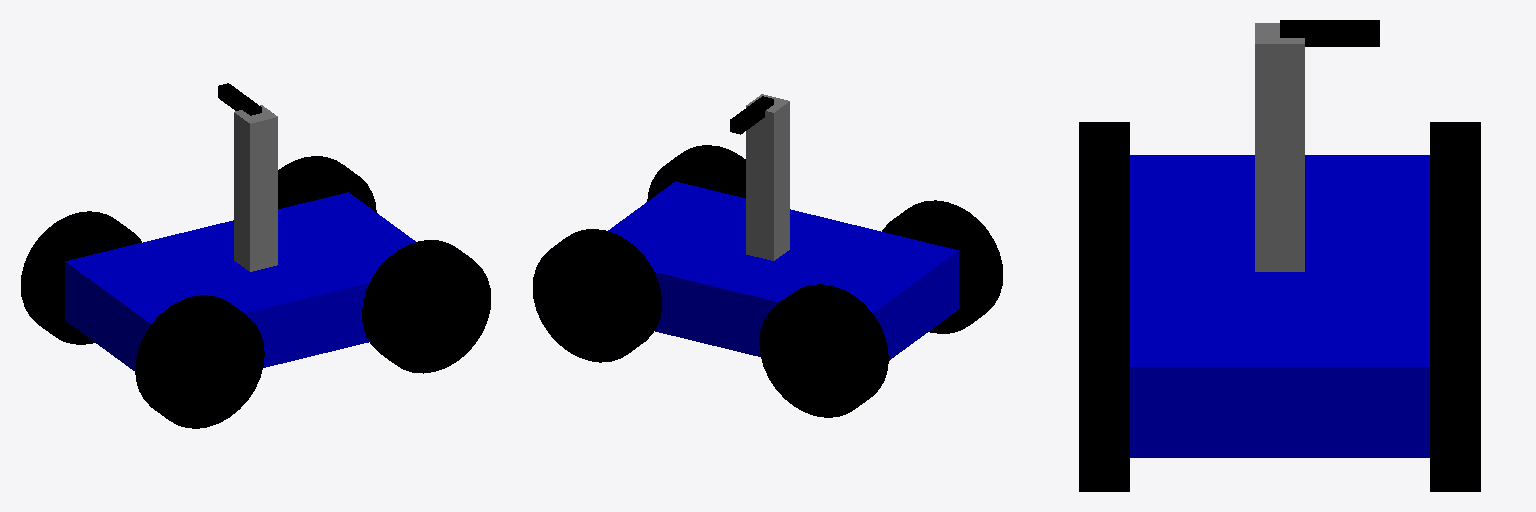
robot.urdf — four_wheel_arm_robot:
<?xml version="1.0"?>
<robot name="four_wheel_arm_robot">

  <material name="blue"><color rgba="0 0 0.8 1"/></material>
  <material name="black"><color rgba="0 0 0 1"/></material>
  <material name="grey"><color rgba="0.5 0.5 0.5 1"/></material>

  <link name="base_link">
    <visual>
      <geometry><box size="0.5 0.3 0.1"/></geometry>
      <material name="blue"/>
    </visual>
    <collision>
      <geometry><box size="0.5 0.3 0.1"/></geometry>
    </collision>
    <inertial>
      <mass value="5.0"/>
      <inertia ixx="0.04" ixy="0" ixz="0" iyy="0.1" iyz="0" izz="0.13"/>
    </inertial>
  </link>

  <link name="fl_wheel">
    <visual><geometry><cylinder length="0.05" radius="0.1"/></geometry><material name="black"/></visual>
    <collision><geometry><cylinder length="0.05" radius="0.1"/></geometry></collision>
    <inertial><mass value="0.5"/><inertia ixx="0.001" ixy="0" ixz="0" iyy="0.001" iyz="0" izz="0.001"/></inertial>
  </link>
  <joint name="fl_joint" type="continuous">
    <parent link="base_link"/><child link="fl_wheel"/>
    <origin xyz="0.2 0.175 0" rpy="1.5708 0 0"/><axis xyz="0 0 1"/>
  </joint>

  <link name="fr_wheel">
    <visual><geometry><cylinder length="0.05" radius="0.1"/></geometry><material name="black"/></visual>
    <collision><geometry><cylinder length="0.05" radius="0.1"/></geometry></collision>
    <inertial><mass value="0.5"/><inertia ixx="0.001" ixy="0" ixz="0" iyy="0.001" iyz="0" izz="0.001"/></inertial>
  </link>
  <joint name="fr_joint" type="continuous">
    <parent link="base_link"/><child link="fr_wheel"/>
    <origin xyz="0.2 -0.175 0" rpy="1.5708 0 0"/><axis xyz="0 0 1"/>
  </joint>

  <link name="bl_wheel">
    <visual><geometry><cylinder length="0.05" radius="0.1"/></geometry><material name="black"/></visual>
    <collision><geometry><cylinder length="0.05" radius="0.1"/></geometry></collision>
    <inertial><mass value="0.5"/><inertia ixx="0.001" ixy="0" ixz="0" iyy="0.001" iyz="0" izz="0.001"/></inertial>
  </link>
  <joint name="bl_joint" type="continuous">
    <parent link="base_link"/><child link="bl_wheel"/>
    <origin xyz="-0.2 0.175 0" rpy="1.5708 0 0"/><axis xyz="0 0 1"/>
  </joint>

  <link name="br_wheel">
    <visual><geometry><cylinder length="0.05" radius="0.1"/></geometry><material name="black"/></visual>
    <collision><geometry><cylinder length="0.05" radius="0.1"/></geometry></collision>
    <inertial><mass value="0.5"/><inertia ixx="0.001" ixy="0" ixz="0" iyy="0.001" iyz="0" izz="0.001"/></inertial>
  </link>
  <joint name="br_joint" type="continuous">
    <parent link="base_link"/><child link="br_wheel"/>
    <origin xyz="-0.2 -0.175 0" rpy="1.5708 0 0"/><axis xyz="0 0 1"/>
  </joint>

  <link name="arm_link">
    <visual>
      <geometry><box size="0.05 0.05 0.4"/></geometry>
      <material name="grey"/>
    </visual>
    <inertial><mass value="1.0"/><inertia ixx="0.01" ixy="0" ixz="0" iyy="0.01" iyz="0" izz="0.01"/></inertial>
  </link>
  <joint name="arm_extension_joint" type="prismatic">
    <parent link="base_link"/><child link="arm_link"/>
    <origin xyz="0 0 0.1" rpy="0 0 0"/>
    <axis xyz="0 0 1"/>
    <limit lower="0" upper="0.3" effort="50" velocity="1.0"/>
  </joint>

  <link name="gripper_finger">
    <visual>
      <origin xyz="0 0.05 0"/>
      <geometry><box size="0.02 0.1 0.02"/></geometry>
      <material name="black"/>
    </visual>
    <inertial><mass value="0.2"/><inertia ixx="0.001" ixy="0" ixz="0" iyy="0.001" iyz="0" izz="0.001"/></inertial>
  </link>
  <joint name="gripper_joint" type="revolute">
    <parent link="arm_link"/><child link="gripper_finger"/>
    <origin xyz="0 0 0.2" rpy="0 0 0"/>
    <axis xyz="0 0 1"/>
    <limit lower="-1.57" upper="1.57" effort="10" velocity="1.0"/>
  </joint>

</robot>

--- Facts derived from the render (not from the file) ---
Views: 3 orthographic renders of the robot side by side, from view 1: azimuth 30°, elevation 25°; view 2: azimuth 150°, elevation 25°; view 3: azimuth 270°, elevation 25°.
Model four_wheel_arm_robot with 7 links and 6 joints (1 revolute, 4 continuous, 1 prismatic), rooted at base_link, posed every joint at zero.
Links seen in each view (by area): view 1: base_link, br_wheel, fr_wheel, arm_link, bl_wheel, fl_wheel, gripper_finger; view 2: base_link, bl_wheel, fl_wheel, br_wheel, arm_link, fr_wheel, gripper_finger; view 3: base_link, arm_link, fl_wheel, fr_wheel, bl_wheel, br_wheel, gripper_finger.
Boxes of the visible links, x1=… form: base_link: x1=65, y1=192, x2=415, y2=370; br_wheel: x1=135, y1=295, x2=264, y2=428; fr_wheel: x1=362, y1=240, x2=490, y2=373; arm_link: x1=234, y1=105, x2=277, y2=271; bl_wheel: x1=21, y1=211, x2=141, y2=344; fl_wheel: x1=278, y1=156, x2=376, y2=212; gripper_finger: x1=218, y1=83, x2=261, y2=115; base_link: x1=608, y1=181, x2=958, y2=360; bl_wheel: x1=759, y1=284, x2=888, y2=417; fl_wheel: x1=533, y1=229, x2=661, y2=362; br_wheel: x1=882, y1=200, x2=1002, y2=333; arm_link: x1=746, y1=94, x2=789, y2=260; fr_wheel: x1=647, y1=145, x2=745, y2=201; gripper_finger: x1=730, y1=96, x2=773, y2=134; base_link: x1=1130, y1=155, x2=1429, y2=457; arm_link: x1=1255, y1=23, x2=1304, y2=271; fl_wheel: x1=1430, y1=291, x2=1480, y2=491; fr_wheel: x1=1079, y1=291, x2=1129, y2=491; bl_wheel: x1=1430, y1=122, x2=1480, y2=290; br_wheel: x1=1079, y1=122, x2=1129, y2=290; gripper_finger: x1=1280, y1=20, x2=1379, y2=46.
Size in the robot's own frame: 0.6 by 0.4 by 0.41 metres.
Geometry: primitives only (box / cylinder / sphere), no mesh files.